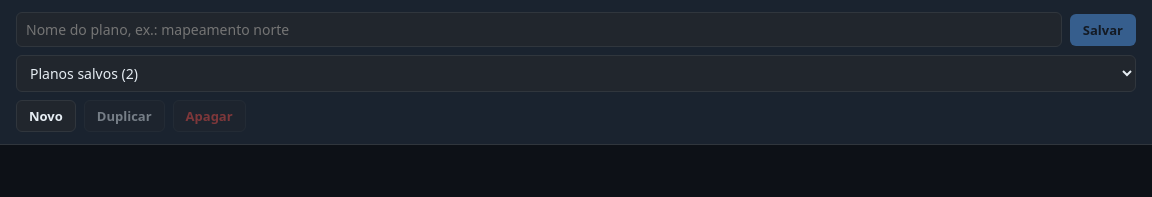
Scenario: PlanBar › opens a saved plan from the list
Select "Norte · planejado" in the dropdown named "Abrir plano salvo" at point(576, 74), box 16,55 -> 1136,92
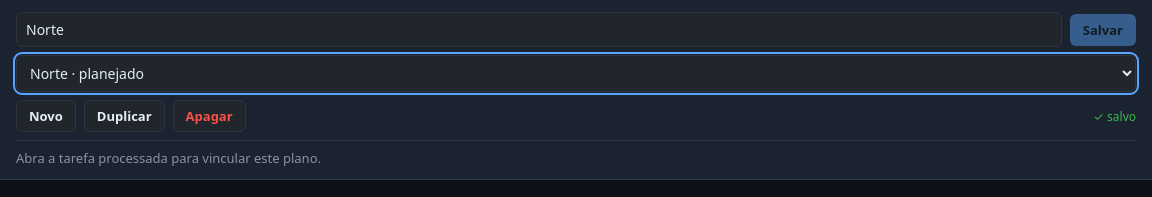
Expected: the field named "Nome do plano" holds "Norte", 16,12 -> 1062,47
